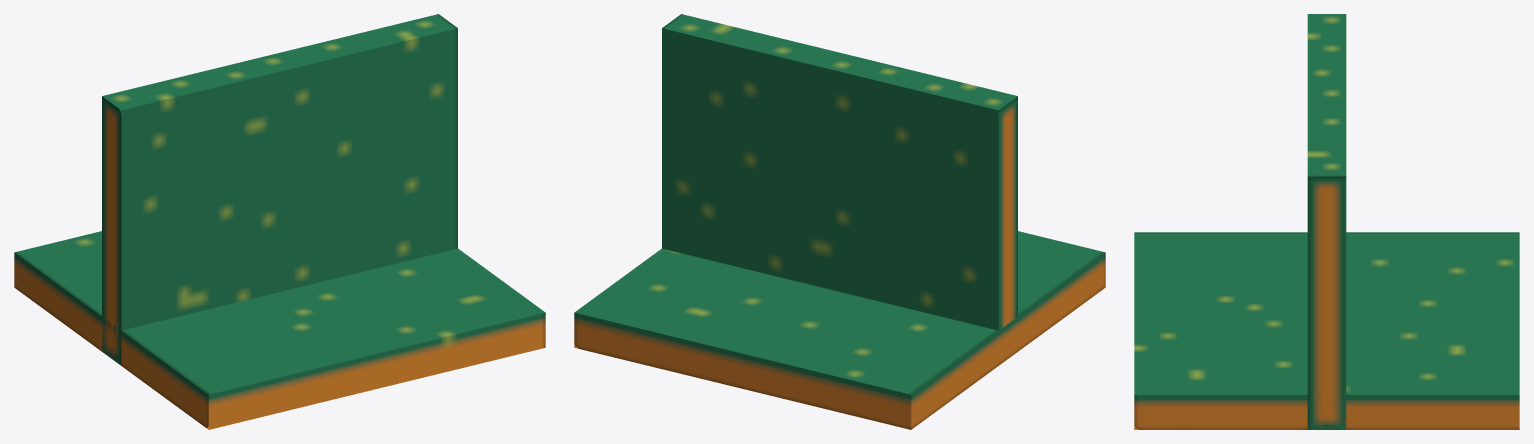
Rendered from Scenary.dae.
The picture shows the model from 3 angles, left to right: view 1: azimuth 30°, elevation 25°; view 2: azimuth 150°, elevation 25°; view 3: azimuth 270°, elevation 25°; orthographic projection.
Visible parts, largest first — view 1: Node-local, Node (1)-local; view 2: Node-local, Node (1)-local; view 3: Node (1)-local, Node-local.
Boxes of the visible parts, bbox=[...] form: Node-local: bbox=[102, 14, 457, 365]; Node (1)-local: bbox=[14, 231, 545, 429]; Node-local: bbox=[662, 14, 1017, 330]; Node (1)-local: bbox=[574, 231, 1105, 429]; Node (1)-local: bbox=[1134, 232, 1519, 429]; Node-local: bbox=[1307, 14, 1346, 429].
Bounding box in the file's own units: 40 × 29 × 40.
Materials: 2 (2 with a texture image).
